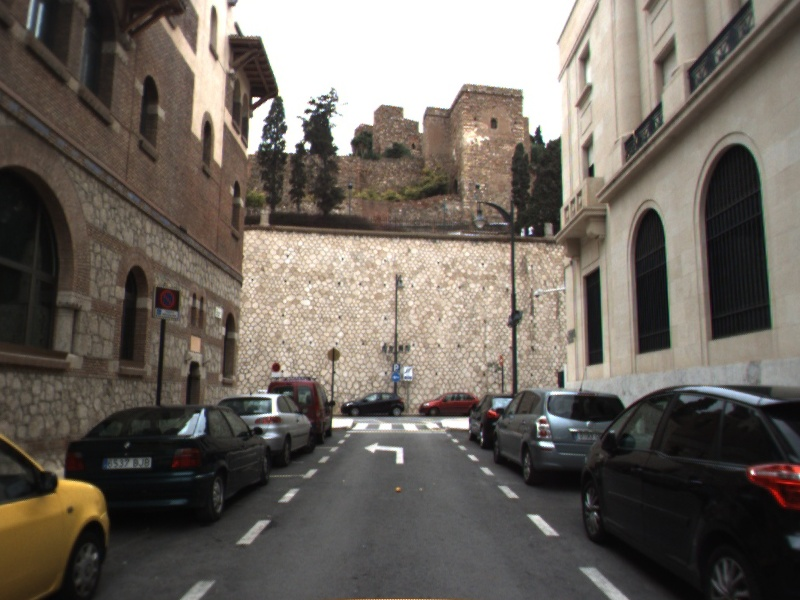LEFT: (363, 440, 406, 466)
